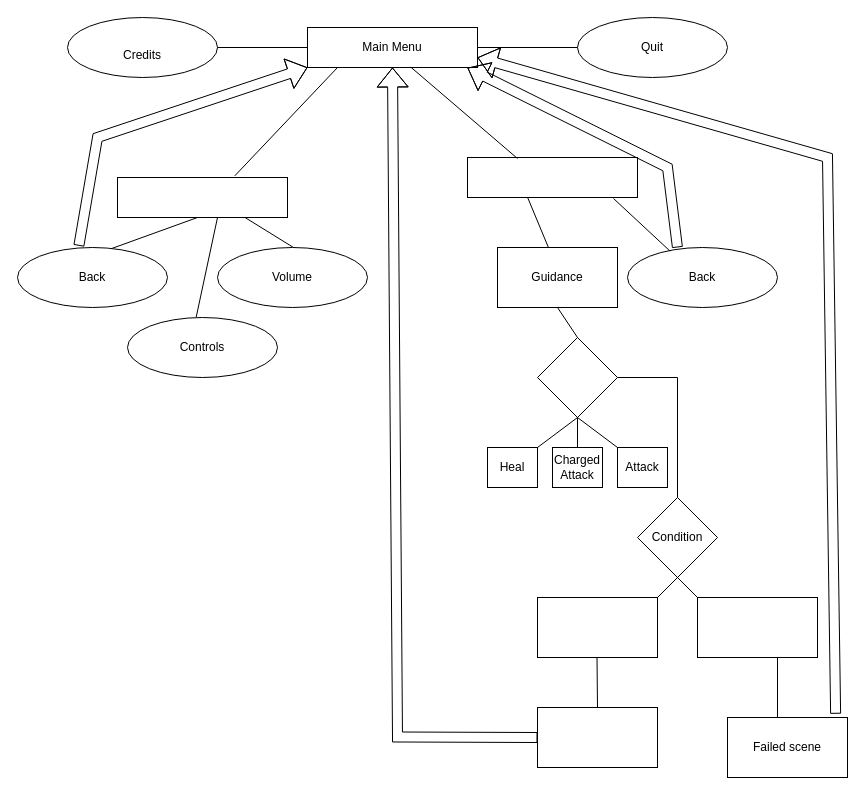
The diagram is 865 pixels wide and 795 high, and some of its shapes have lost their labels. Here are the shapes that lost their labels. From the top down, the centre of each, then its label:
At [202,197]: "Options".
At [552,177]: "Play".
At [577,377]: "In Game".
At [597,627]: "Win".
At [757,627]: "Lose".
At [597,737]: "Credit Scene".
